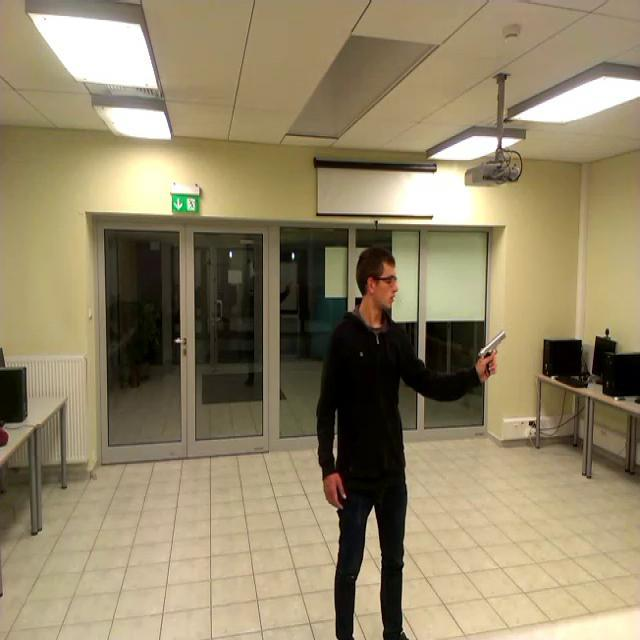Gun: (478, 329, 506, 376)
